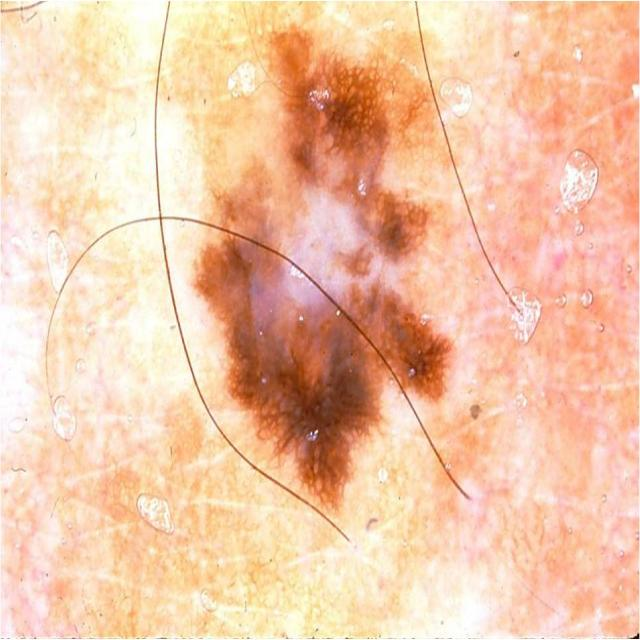Melanoma: (185, 20, 453, 526)
